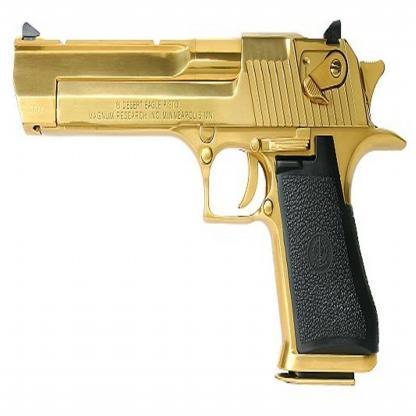gun: (12, 4, 410, 404)
